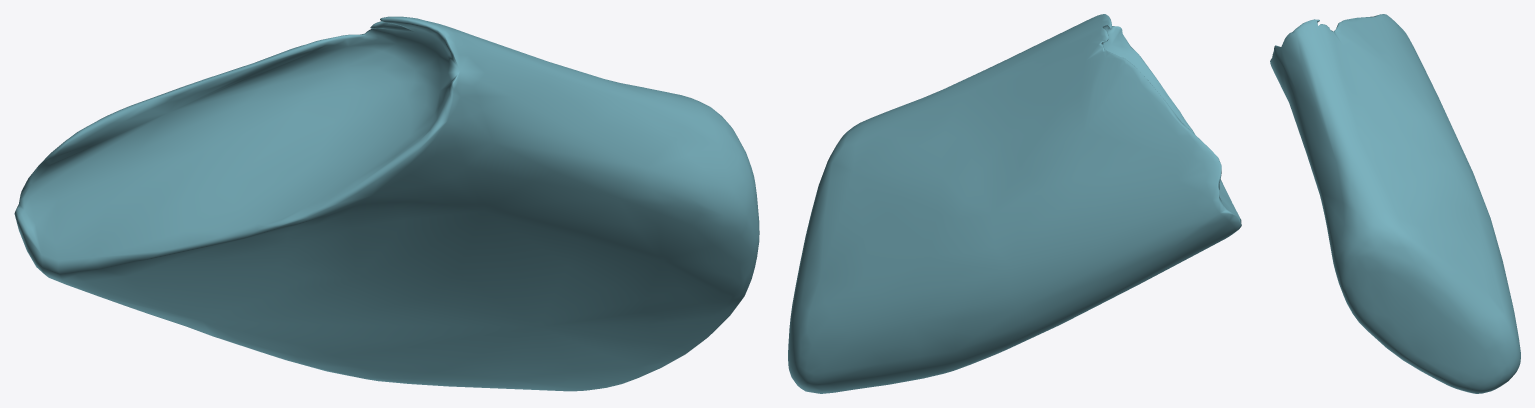
The picture shows the model from 3 angles, left to right: view 1: azimuth 30°, elevation 25°; view 2: azimuth 150°, elevation 25°; view 3: azimuth 270°, elevation 25°; orthographic projection. The views are drawn at different scales.
Visible parts, largest first — view 1: 右侧第一肋软骨; view 2: 右侧第一肋软骨; view 3: 右侧第一肋软骨.
Part boxes in pixels (<box>): 右侧第一肋软骨: <box>14,16,759,391</box>; 右侧第一肋软骨: <box>788,14,1241,393</box>; 右侧第一肋软骨: <box>1270,14,1520,393</box>.
Bounding box in the file's own units: 0.045 × 0.0355 × 0.0279.
